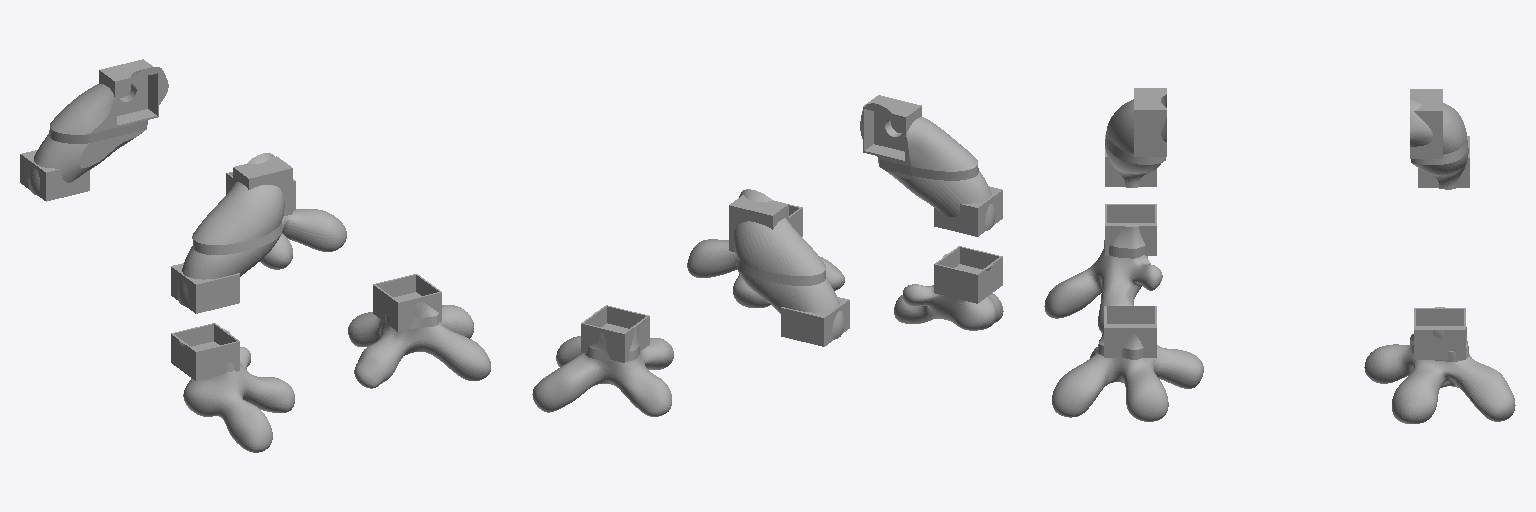
robot.urdf — FrogBot2_top-FrogBot2-z-2_bottom-FrogBot2-z-2:
<?xml version="1.0" ?>
<robot name="FrogBot2_top-FrogBot2-z-2_bottom-FrogBot2-z-2">

<material name="pla_5_percent_infill">
  <color rgba="0.700 0.700 0.700 1.000"/>
</material>

<link name="base_link">
  <inertial>
    <origin xyz="0 0 0" rpy="0 0 0"/>
    <mass value="1.3341577719423"/>
    <inertia ixx="0.0046797925109551535" iyy="0.011134478382956134" izz="0.010477176548232365" ixy="0.00012495104989682066" iyz="8.213962567094231e-05" ixz="-0.002474445058077273"/>
  </inertial>
  <visual>
    <origin xyz="0 0 0" rpy="0 0 0"/>
    <geometry>
      <mesh filename="simple_meshes/base_link.stl" scale="0.001 0.001 0.001"/>
    </geometry>
    <material name="pla_5_percent_infill"/>
  </visual>
  <collision>
    <origin xyz="0 0 0" rpy="0 0 0"/>
    <geometry>
      <mesh filename="simple_meshes/base_link.stl" scale="0.001 0.001 0.001"/>
    </geometry>
  </collision>
</link>

<link name="body_1_0_1">
  <inertial>
    <origin xyz="-0.053395 -0.09218 -0.023663" rpy="0 0 0"/>
    <mass value="0.05414963928909878"/>
    <inertia ixx="7.322096398285007e-05" iyy="7.66397325665337e-05" izz="1.852062050390342e-05" ixy="-2.89712407299165e-07" iyz="5.010657402395387e-06" ixz="8.030697066409615e-06"/>
  </inertial>
  <visual>
    <origin xyz="-0.053395 -0.09218 -0.023663" rpy="0 0 0"/>
    <geometry>
      <mesh filename="simple_meshes/body_1_0_1.stl" scale="0.001 0.001 0.001"/>
    </geometry>
    <material name="pla_5_percent_infill"/>
  </visual>
  <collision>
    <origin xyz="-0.053395 -0.09218 -0.023663" rpy="0 0 0"/>
    <geometry>
      <mesh filename="simple_meshes/body_1_0_1.stl" scale="0.001 0.001 0.001"/>
    </geometry>
  </collision>
</link>

<link name="body_1_1_1">
  <inertial>
    <origin xyz="0.095032 -0.09218 0.005345" rpy="0 0 0"/>
    <mass value="0.10539053543497807"/>
    <inertia ixx="7.648656435558371e-05" iyy="0.0001430534796682749" izz="0.00010447052140463795" ixy="4.835148880669203e-06" iyz="5.2590464795311325e-06" ixz="-4.030977417903884e-05"/>
  </inertial>
  <visual>
    <origin xyz="0.095032 -0.09218 0.005345" rpy="0 0 0"/>
    <geometry>
      <mesh filename="simple_meshes/body_1_1_1.stl" scale="0.001 0.001 0.001"/>
    </geometry>
    <material name="pla_5_percent_infill"/>
  </visual>
  <collision>
    <origin xyz="0.095032 -0.09218 0.005345" rpy="0 0 0"/>
    <geometry>
      <mesh filename="simple_meshes/body_1_1_1.stl" scale="0.001 0.001 0.001"/>
    </geometry>
  </collision>
</link>

<link name="body_1_2_1">
  <inertial>
    <origin xyz="-0.041549 0.09218 -0.043945" rpy="0 0 0"/>
    <mass value="0.06269270497452402"/>
    <inertia ixx="0.0001274523522902082" iyy="0.00013273599338279397" izz="2.9663636528539598e-05" ixy="1.6049821966907267e-06" iyz="-1.789621160224474e-05" ixz="1.923788717101208e-05"/>
  </inertial>
  <visual>
    <origin xyz="-0.041549 0.09218 -0.043945" rpy="0 0 0"/>
    <geometry>
      <mesh filename="simple_meshes/body_1_2_1.stl" scale="0.001 0.001 0.001"/>
    </geometry>
    <material name="pla_5_percent_infill"/>
  </visual>
  <collision>
    <origin xyz="-0.041549 0.09218 -0.043945" rpy="0 0 0"/>
    <geometry>
      <mesh filename="simple_meshes/body_1_2_1.stl" scale="0.001 0.001 0.001"/>
    </geometry>
  </collision>
</link>

<link name="body_1_3_1">
  <inertial>
    <origin xyz="0.087142 0.09218 -0.003397" rpy="0 0 0"/>
    <mass value="0.10787180234964276"/>
    <inertia ixx="7.886455923860084e-05" iyy="0.00014385653190250548" izz="0.0001048913590200179" ixy="-7.808333796017293e-06" iyz="-5.332847926788661e-06" ixz="-4.051559471153574e-05"/>
  </inertial>
  <visual>
    <origin xyz="0.087142 0.09218 -0.003397" rpy="0 0 0"/>
    <geometry>
      <mesh filename="simple_meshes/body_1_3_1.stl" scale="0.001 0.001 0.001"/>
    </geometry>
    <material name="pla_5_percent_infill"/>
  </visual>
  <collision>
    <origin xyz="0.087142 0.09218 -0.003397" rpy="0 0 0"/>
    <geometry>
      <mesh filename="simple_meshes/body_1_3_1.stl" scale="0.001 0.001 0.001"/>
    </geometry>
  </collision>
</link>

<link name="body_2_0_1">
  <inertial>
    <origin xyz="-0.065654 -0.139685 0.104558" rpy="0 0 0"/>
    <mass value="0.10406700997069096"/>
    <inertia ixx="0.00011346126229997647" iyy="0.00012540832924920302" izz="0.00018991199658074552" ixy="-1.0599562162534864e-05" iyz="5.623529840863197e-06" ixz="6.012270217499102e-06"/>
  </inertial>
  <visual>
    <origin xyz="-0.065654 -0.139685 0.104558" rpy="0 0 0"/>
    <geometry>
      <mesh filename="simple_meshes/body_2_0_1.stl" scale="0.001 0.001 0.001"/>
    </geometry>
    <material name="pla_5_percent_infill"/>
  </visual>
  <collision>
    <origin xyz="-0.065654 -0.139685 0.104558" rpy="0 0 0"/>
    <geometry>
      <mesh filename="simple_meshes/body_2_0_1.stl" scale="0.001 0.001 0.001"/>
    </geometry>
  </collision>
</link>

<link name="body_2_1_1">
  <inertial>
    <origin xyz="0.15751 -0.143533 0.104558" rpy="0 0 0"/>
    <mass value="0.0838339036483167"/>
    <inertia ixx="7.079126809306138e-05" iyy="8.554588669685333e-05" izz="9.618263412858666e-05" ixy="-1.6466551472772532e-07" iyz="1.9491246345120904e-05" ixz="1.100508674867131e-05"/>
  </inertial>
  <visual>
    <origin xyz="0.15751 -0.143533 0.104558" rpy="0 0 0"/>
    <geometry>
      <mesh filename="simple_meshes/body_2_1_1.stl" scale="0.001 0.001 0.001"/>
    </geometry>
    <material name="pla_5_percent_infill"/>
  </visual>
  <collision>
    <origin xyz="0.15751 -0.143533 0.104558" rpy="0 0 0"/>
    <geometry>
      <mesh filename="simple_meshes/body_2_1_1.stl" scale="0.001 0.001 0.001"/>
    </geometry>
  </collision>
</link>

<link name="body_2_2_1">
  <inertial>
    <origin xyz="-0.061161 0.145934 0.104558" rpy="0 0 0"/>
    <mass value="0.10170962552979187"/>
    <inertia ixx="0.00011361666083858392" iyy="0.00012234015262982357" izz="0.000189771339919756" ixy="1.1740307942443781e-05" iyz="-3.1636338973235582e-06" ixz="3.0916583550935194e-06"/>
  </inertial>
  <visual>
    <origin xyz="-0.061161 0.145934 0.104558" rpy="0 0 0"/>
    <geometry>
      <mesh filename="simple_meshes/body_2_2_1.stl" scale="0.001 0.001 0.001"/>
    </geometry>
    <material name="pla_5_percent_infill"/>
  </visual>
  <collision>
    <origin xyz="-0.061161 0.145934 0.104558" rpy="0 0 0"/>
    <geometry>
      <mesh filename="simple_meshes/body_2_2_1.stl" scale="0.001 0.001 0.001"/>
    </geometry>
  </collision>
</link>

<link name="body_2_3_1">
  <inertial>
    <origin xyz="0.160089 0.145768 0.104558" rpy="0 0 0"/>
    <mass value="0.07875681307487732"/>
    <inertia ixx="7.258512439480523e-05" iyy="8.114153741713755e-05" izz="9.064756746616316e-05" ixy="-5.987692897877796e-07" iyz="-2.1021696683060174e-05" ixz="1.4471384925871834e-05"/>
  </inertial>
  <visual>
    <origin xyz="0.160089 0.145768 0.104558" rpy="0 0 0"/>
    <geometry>
      <mesh filename="simple_meshes/body_2_3_1.stl" scale="0.001 0.001 0.001"/>
    </geometry>
    <material name="pla_5_percent_infill"/>
  </visual>
  <collision>
    <origin xyz="0.160089 0.145768 0.104558" rpy="0 0 0"/>
    <geometry>
      <mesh filename="simple_meshes/body_2_3_1.stl" scale="0.001 0.001 0.001"/>
    </geometry>
  </collision>
</link>

<joint name="joint_1_0" type="revolute">
  <origin xyz="0.053395 0.09218 0.023663" rpy="0 0 0"/>
  <parent link="base_link"/>
  <child link="body_1_0_1"/>
  <axis xyz="0.0 1.0 0.0"/>
  <limit upper="1.2" lower="-1.2" effort="3.8" velocity="5.4"/>
</joint>
<transmission name="joint_1_0_tran">
  <type>transmission_interface/SimpleTransmission</type>
  <joint name="joint_1_0">
    <hardwareInterface>PositionJointInterface</hardwareInterface>
  </joint>
  <actuator name="joint_1_0_actr">
    <hardwareInterface>PositionJointInterface</hardwareInterface>
    <mechanicalReduction>1</mechanicalReduction>
  </actuator>
</transmission>

<joint name="joint_1_1" type="revolute">
  <origin xyz="-0.095032 0.09218 -0.005345" rpy="0 0 0"/>
  <parent link="base_link"/>
  <child link="body_1_1_1"/>
  <axis xyz="0.0 1.0 0.0"/>
  <limit upper="1.2" lower="-1.2" effort="3.8" velocity="5.4"/>
</joint>
<transmission name="joint_1_1_tran">
  <type>transmission_interface/SimpleTransmission</type>
  <joint name="joint_1_1">
    <hardwareInterface>PositionJointInterface</hardwareInterface>
  </joint>
  <actuator name="joint_1_1_actr">
    <hardwareInterface>PositionJointInterface</hardwareInterface>
    <mechanicalReduction>1</mechanicalReduction>
  </actuator>
</transmission>

<joint name="joint_1_2" type="revolute">
  <origin xyz="0.041549 -0.09218 0.043945" rpy="0 0 0"/>
  <parent link="base_link"/>
  <child link="body_1_2_1"/>
  <axis xyz="0.0 1.0 0.0"/>
  <limit upper="1.2" lower="-1.2" effort="3.8" velocity="5.4"/>
</joint>
<transmission name="joint_1_2_tran">
  <type>transmission_interface/SimpleTransmission</type>
  <joint name="joint_1_2">
    <hardwareInterface>PositionJointInterface</hardwareInterface>
  </joint>
  <actuator name="joint_1_2_actr">
    <hardwareInterface>PositionJointInterface</hardwareInterface>
    <mechanicalReduction>1</mechanicalReduction>
  </actuator>
</transmission>

<joint name="joint_1_3" type="revolute">
  <origin xyz="-0.087142 -0.09218 0.003397" rpy="0 0 0"/>
  <parent link="base_link"/>
  <child link="body_1_3_1"/>
  <axis xyz="0.0 1.0 0.0"/>
  <limit upper="1.2" lower="-1.2" effort="3.8" velocity="5.4"/>
</joint>
<transmission name="joint_1_3_tran">
  <type>transmission_interface/SimpleTransmission</type>
  <joint name="joint_1_3">
    <hardwareInterface>PositionJointInterface</hardwareInterface>
  </joint>
  <actuator name="joint_1_3_actr">
    <hardwareInterface>PositionJointInterface</hardwareInterface>
    <mechanicalReduction>1</mechanicalReduction>
  </actuator>
</transmission>

<joint name="joint_2_0" type="revolute">
  <origin xyz="0.012259 0.047505 -0.128221" rpy="0 0 0"/>
  <parent link="body_1_0_1"/>
  <child link="body_2_0_1"/>
  <axis xyz="0.0 0.0 1.0"/>
  <limit upper="1.2" lower="-1.2" effort="3.8" velocity="5.4"/>
</joint>
<transmission name="joint_2_0_tran">
  <type>transmission_interface/SimpleTransmission</type>
  <joint name="joint_2_0">
    <hardwareInterface>PositionJointInterface</hardwareInterface>
  </joint>
  <actuator name="joint_2_0_actr">
    <hardwareInterface>PositionJointInterface</hardwareInterface>
    <mechanicalReduction>1</mechanicalReduction>
  </actuator>
</transmission>

<joint name="joint_2_1" type="revolute">
  <origin xyz="-0.062478 0.051353 -0.099213" rpy="0 0 0"/>
  <parent link="body_1_1_1"/>
  <child link="body_2_1_1"/>
  <axis xyz="0.0 0.0 1.0"/>
  <limit upper="1.2" lower="-1.2" effort="3.8" velocity="5.4"/>
</joint>
<transmission name="joint_2_1_tran">
  <type>transmission_interface/SimpleTransmission</type>
  <joint name="joint_2_1">
    <hardwareInterface>PositionJointInterface</hardwareInterface>
  </joint>
  <actuator name="joint_2_1_actr">
    <hardwareInterface>PositionJointInterface</hardwareInterface>
    <mechanicalReduction>1</mechanicalReduction>
  </actuator>
</transmission>

<joint name="joint_2_2" type="revolute">
  <origin xyz="0.019612 -0.053754 -0.148503" rpy="0 0 0"/>
  <parent link="body_1_2_1"/>
  <child link="body_2_2_1"/>
  <axis xyz="0.0 0.0 1.0"/>
  <limit upper="1.2" lower="-1.2" effort="3.8" velocity="5.4"/>
</joint>
<transmission name="joint_2_2_tran">
  <type>transmission_interface/SimpleTransmission</type>
  <joint name="joint_2_2">
    <hardwareInterface>PositionJointInterface</hardwareInterface>
  </joint>
  <actuator name="joint_2_2_actr">
    <hardwareInterface>PositionJointInterface</hardwareInterface>
    <mechanicalReduction>1</mechanicalReduction>
  </actuator>
</transmission>

<joint name="joint_2_3" type="revolute">
  <origin xyz="-0.072947 -0.053588 -0.107955" rpy="0 0 0"/>
  <parent link="body_1_3_1"/>
  <child link="body_2_3_1"/>
  <axis xyz="0.0 0.0 1.0"/>
  <limit upper="1.2" lower="-1.2" effort="3.8" velocity="5.4"/>
</joint>
<transmission name="joint_2_3_tran">
  <type>transmission_interface/SimpleTransmission</type>
  <joint name="joint_2_3">
    <hardwareInterface>PositionJointInterface</hardwareInterface>
  </joint>
  <actuator name="joint_2_3_actr">
    <hardwareInterface>PositionJointInterface</hardwareInterface>
    <mechanicalReduction>1</mechanicalReduction>
  </actuator>
</transmission>

</robot>

--- Facts derived from the render (not from the file) ---
The picture shows the robot from 3 angles, left to right: view 1: azimuth 30°, elevation 25°; view 2: azimuth 150°, elevation 25°; view 3: azimuth 270°, elevation 25°; orthographic projection.
Model FrogBot2_top-FrogBot2-z-2_bottom-FrogBot2-z-2 with 9 links and 8 joints (8 revolute), rooted at base_link, posed every joint at zero.
Visible links, largest first — view 1: body_1_3_1, body_1_1_1, body_2_2_1, body_2_3_1, body_2_0_1; view 2: body_1_1_1, body_1_3_1, body_2_0_1, body_2_3_1, body_2_2_1; view 3: body_2_0_1, body_2_2_1, body_2_3_1, body_1_3_1, body_1_1_1.
Boxes of the visible links, box(x1,y1,x2,y2) form: body_1_3_1: box(171, 153, 292, 313); body_1_1_1: box(20, 59, 168, 201); body_2_2_1: box(348, 274, 490, 388); body_2_3_1: box(171, 323, 294, 452); body_2_0_1: box(226, 172, 346, 269); body_1_1_1: box(729, 189, 849, 346); body_1_3_1: box(860, 95, 1002, 236); body_2_0_1: box(532, 305, 673, 416); body_2_3_1: box(894, 246, 1003, 330); body_2_2_1: box(687, 200, 844, 307); body_2_0_1: box(1364, 307, 1515, 423); body_2_2_1: box(1052, 306, 1203, 421); body_2_3_1: box(1044, 204, 1162, 333); body_1_3_1: box(1105, 88, 1166, 187); body_1_1_1: box(1410, 89, 1469, 189).
Size in the robot's own frame: 0.3293 by 0.435 by 0.2546 metres.
5 mesh visuals loaded from 9 distinct referenced files (5 binary STL); not drawn: 4 (reference not matched to a file when rendering).